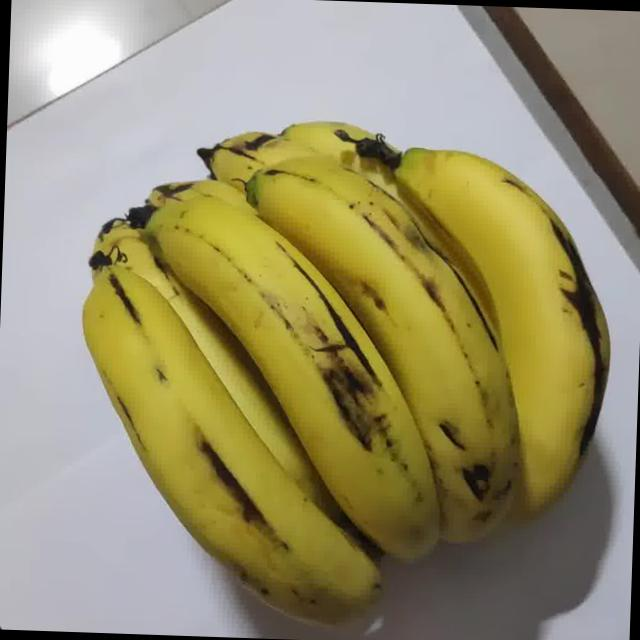banana_pacche: (41, 25, 626, 640)
